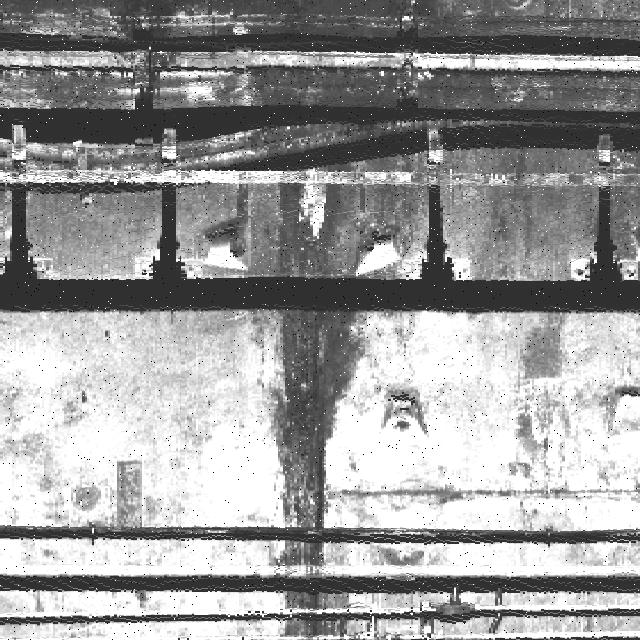leakage: (246, 176, 378, 640)
